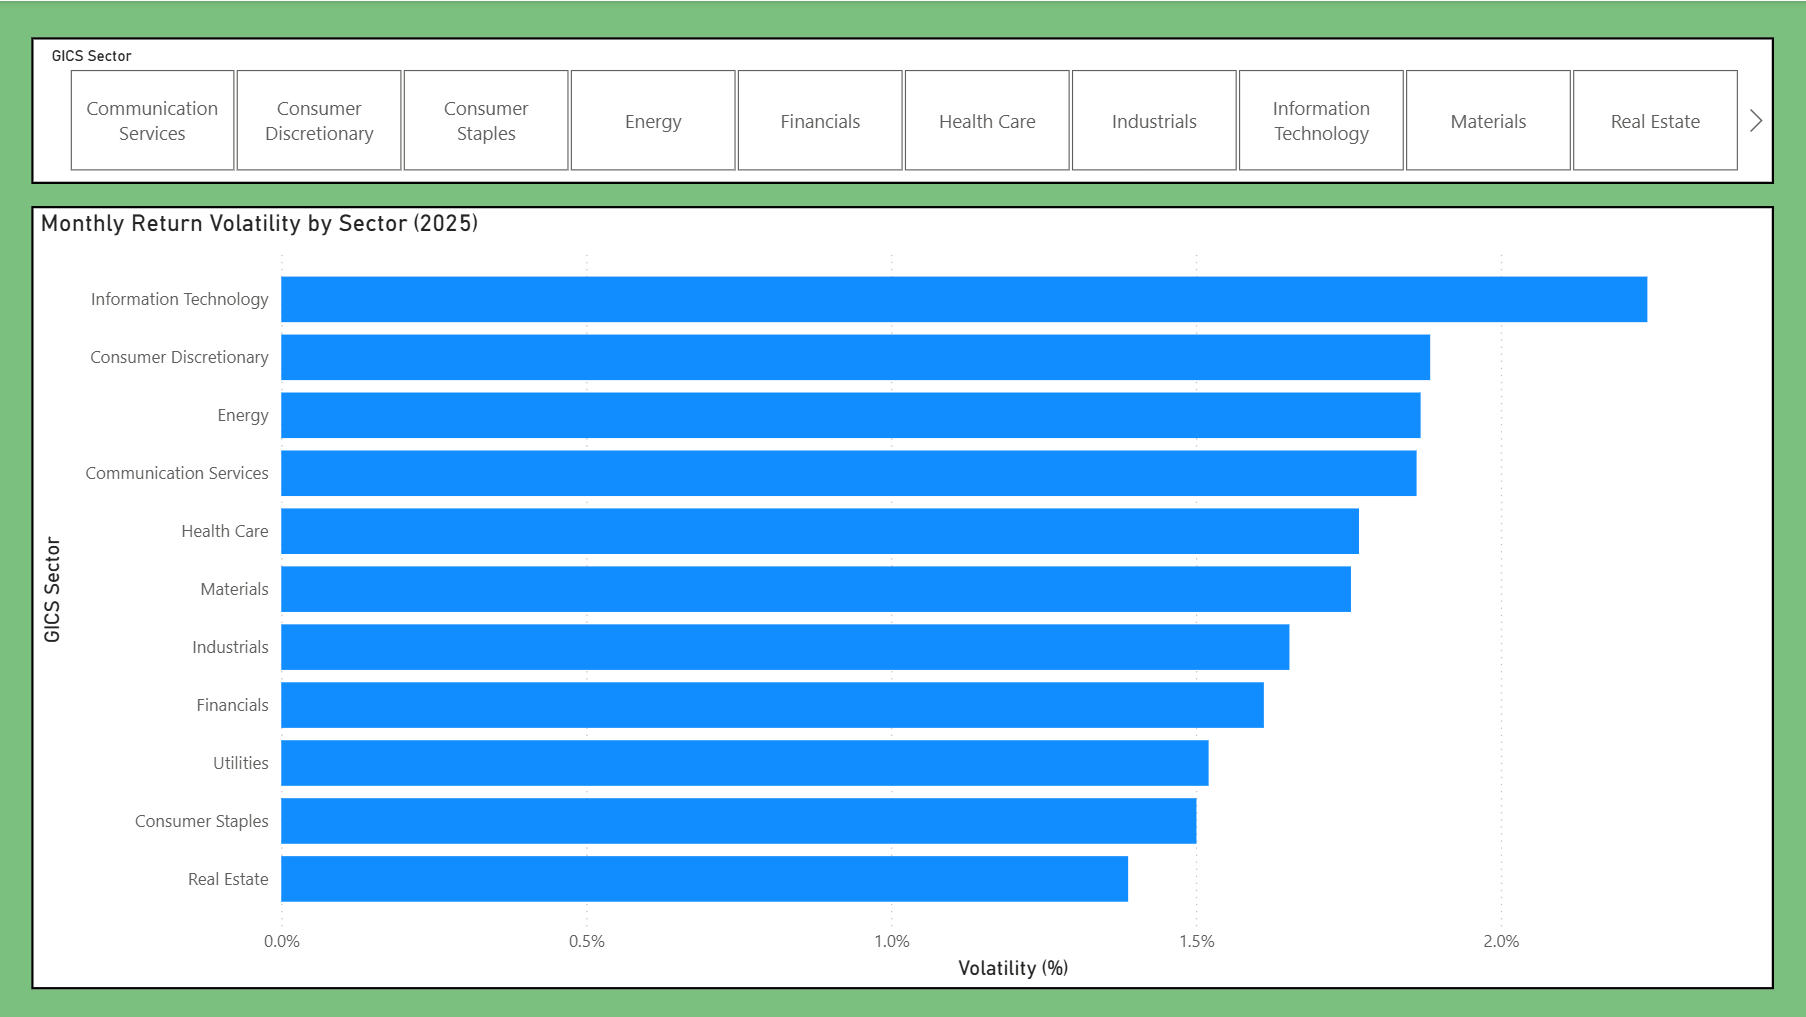

This screenshot's page, from the dashboard's own definition file:
{"tool":"powerbi","page":{"name":"Sector Volatility","canvas":[1280,720],"ordinal":1},"visuals":[{"type":"clusteredBarChart","title":"Monthly Return Volatility by Sector (2025)","fields":{"Category":["volatility.gics_sector"],"Y":["Avg(volatility.volatility_pct)"]},"box":[22.1,145.3,1235,555.5],"z":0},{"type":"slicer","fields":{"Values":["volatility.gics_sector"]},"box":[22.1,25.7,1235,103.7],"z":1}]}

Visuals, with their boxes in screenshot pixels (x1, y1, x2, y2), scaled from the page's 1280x720 canvas onto the 1806x1017 screenshot:
"Monthly Return Volatility by Sector (2025)" clusteredBarChart: <box>31,205,1774,990</box>
slicer - volatility.gics_sector: <box>31,36,1774,183</box>
